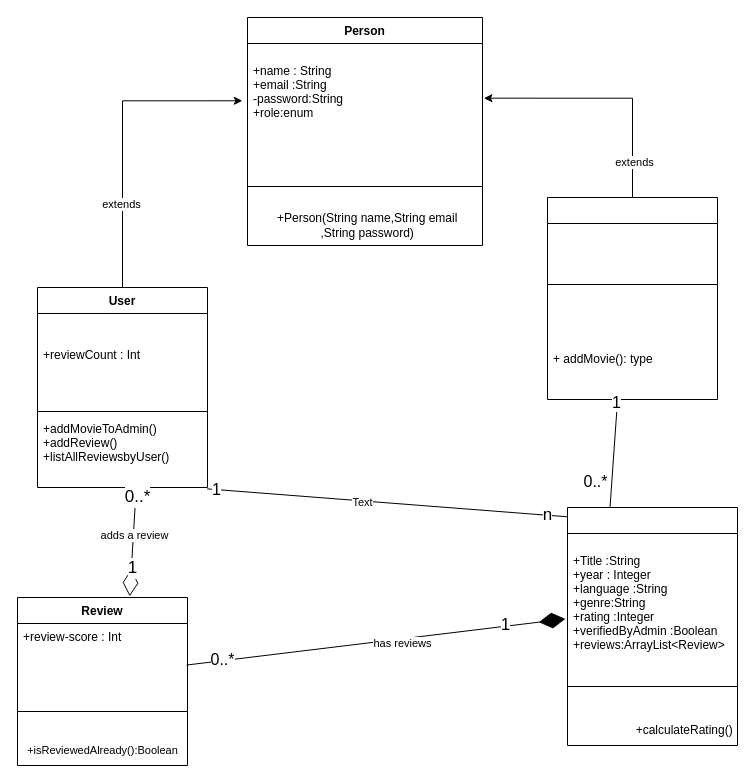
This 755x783 diagram has some shape labels left out. Here are the shapes that lost their labels. From the top down, the box of each, then its label:
(546, 196, 718, 400): Admin
(566, 506, 738, 746): Movie
